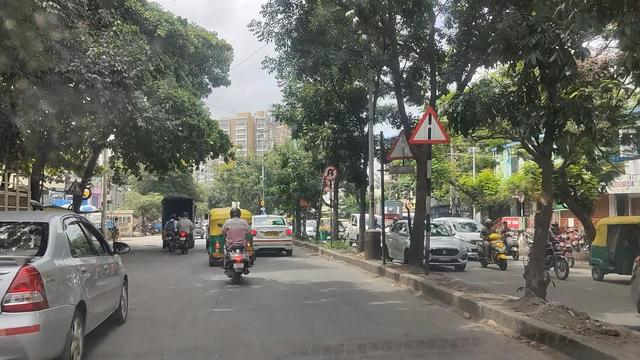LMV: (2, 209, 135, 360), (214, 206, 253, 285), (253, 218, 289, 256)
